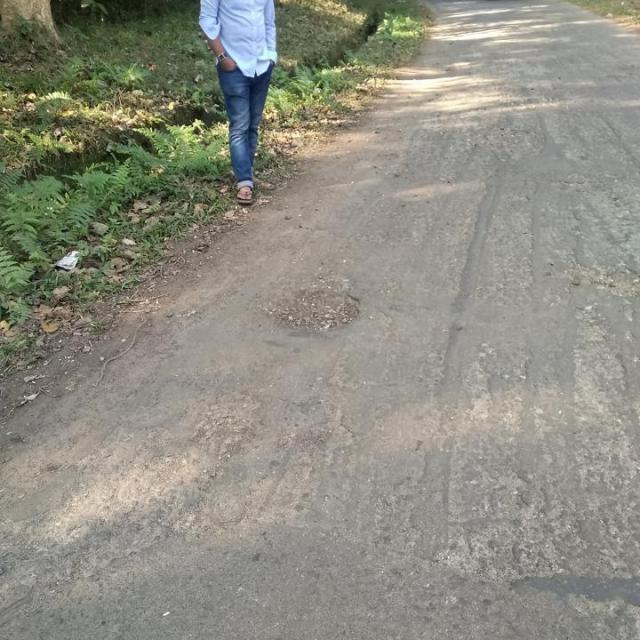pothole: (264, 274, 374, 343), (272, 285, 365, 335)
